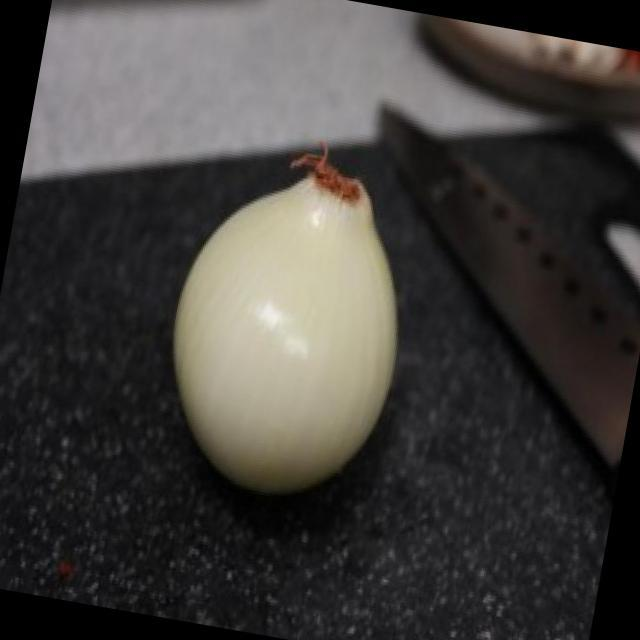Onion: (173, 184, 399, 498)
